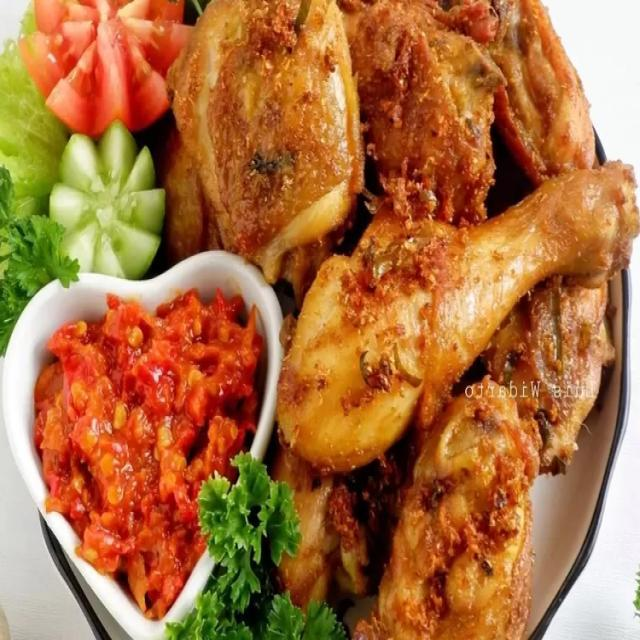ayam_goreng: (220, 14, 614, 545)
